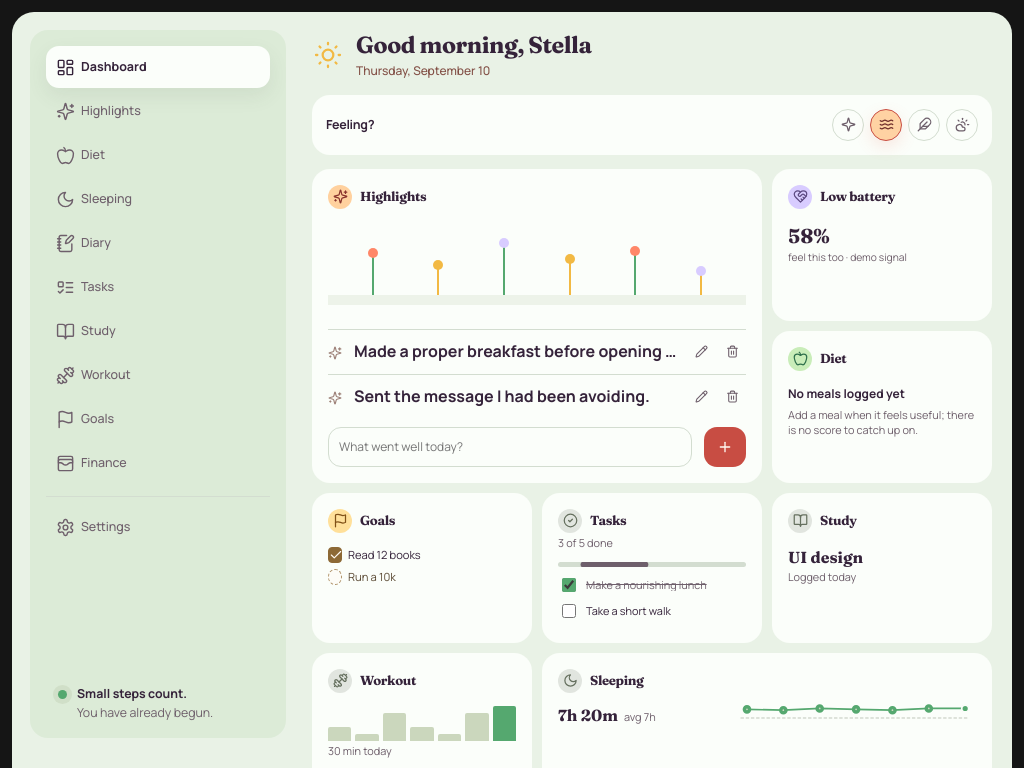
Scenario: navigates from dashboard cards without visible view buttons
Expected: the link "Diet" is shown, [772,330,992,482]
Click the link "Highlights": [537, 326] box [312,168,762,482]
(page scrolled)
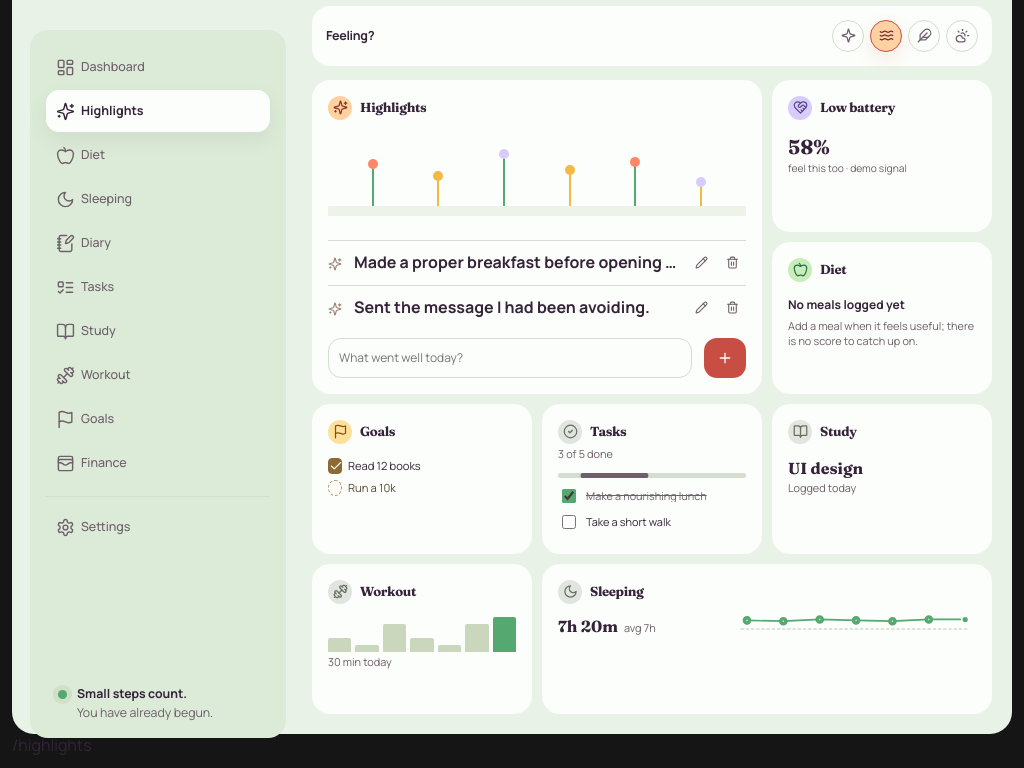
Result: the text with test id "location" reads "/highlights" at [12,734,92,756]
